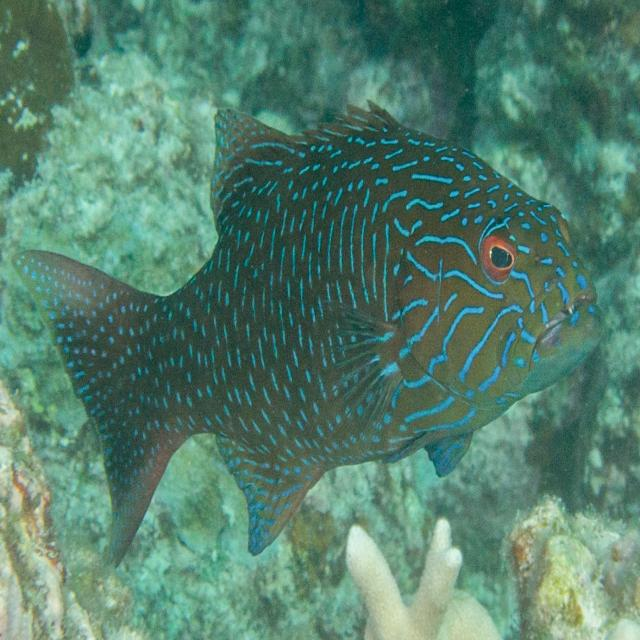Plectropomus-leopardus: (8, 77, 611, 568)
